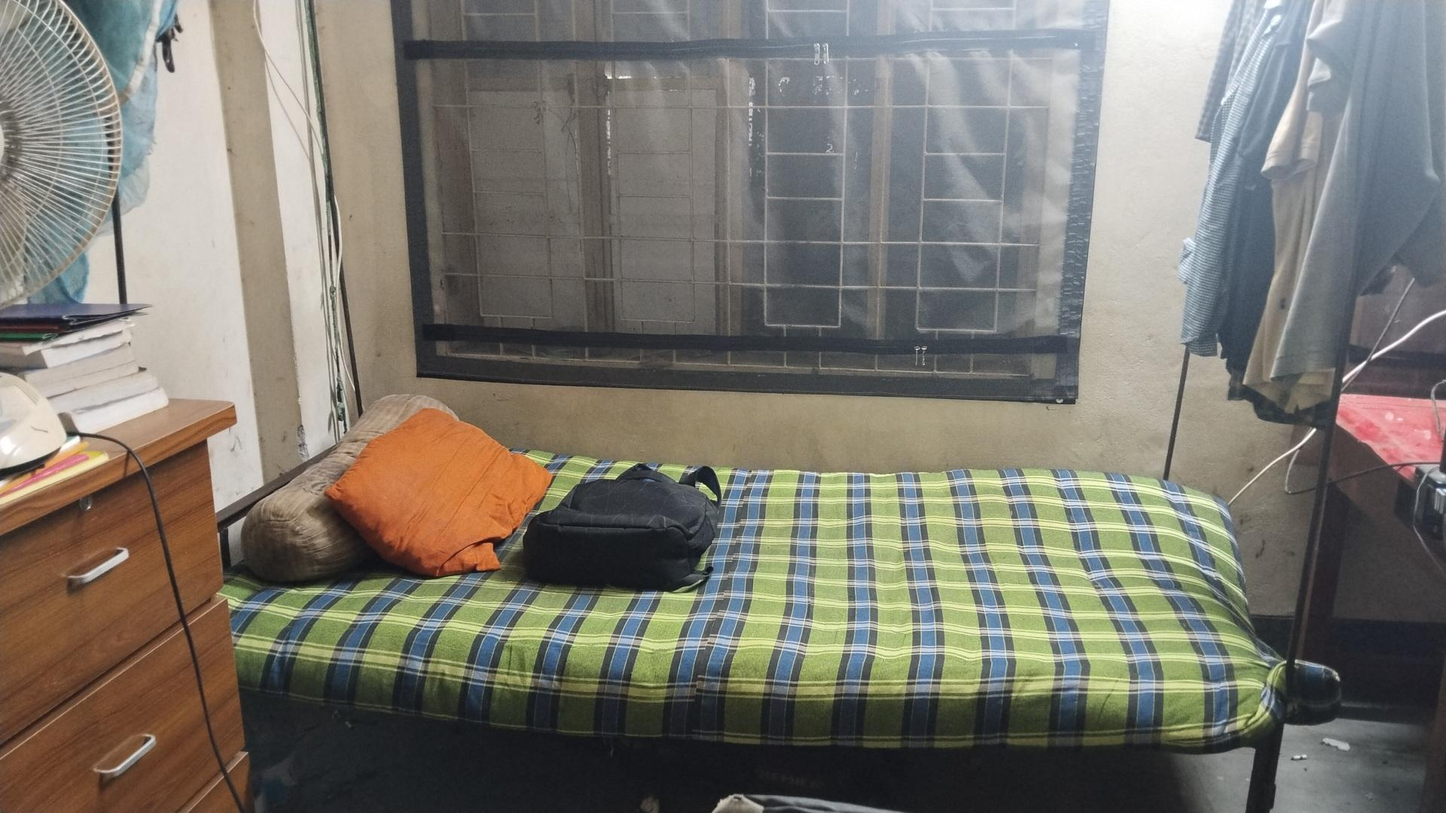Bag: (521, 449, 716, 590)
Pillow: (339, 410, 547, 581)
